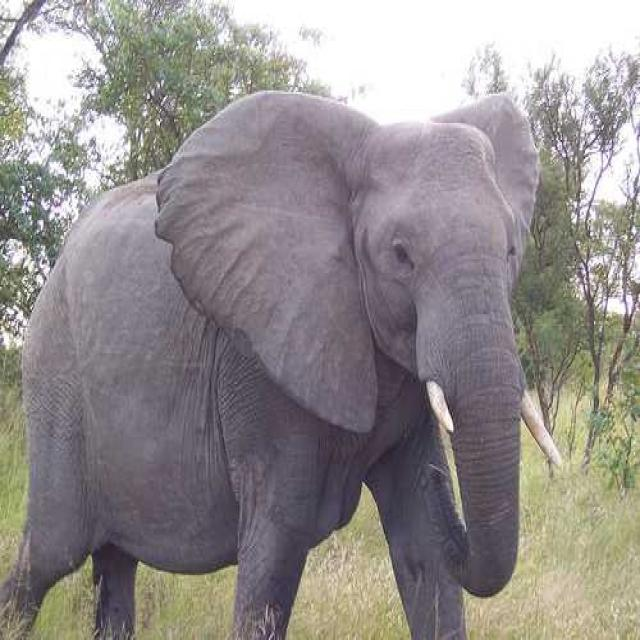Elephant: (0, 87, 562, 638)
